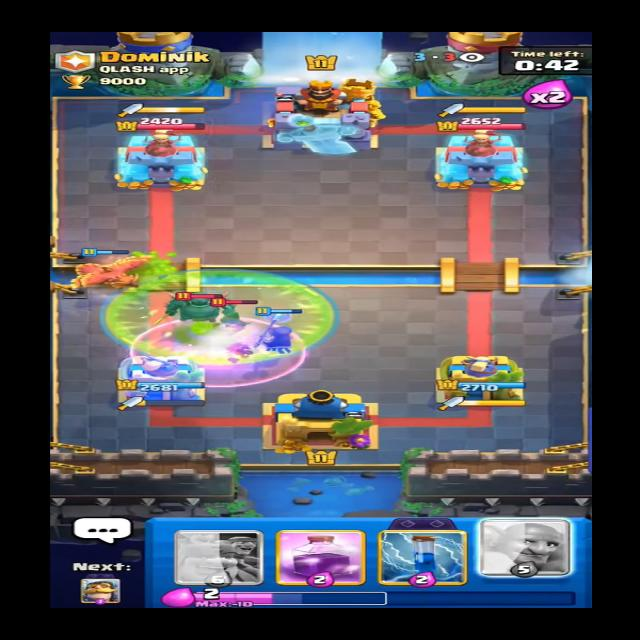bandit: (214, 302, 251, 330)
pekka: (159, 286, 237, 327)
